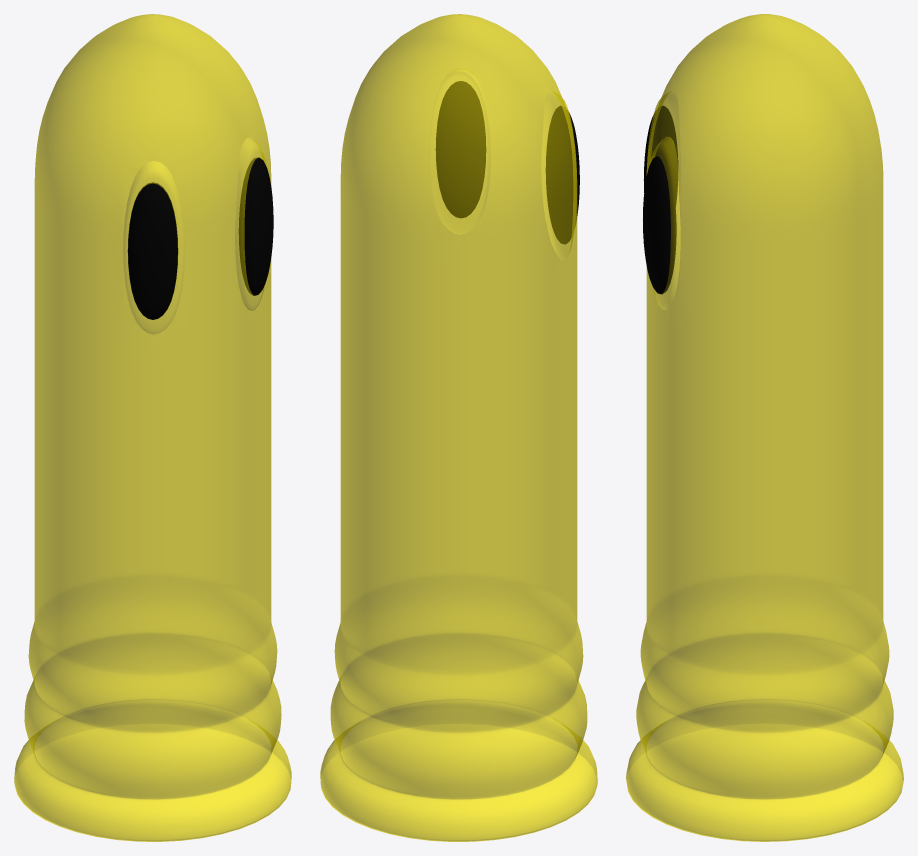
The model's file is Ennemis_JauneMarche.fbx.
3 renders of one model, left to right at view 1: azimuth 30°, elevation 25°; view 2: azimuth 150°, elevation 25°; view 3: azimuth 270°, elevation 25°, orthographic.
Parts seen in each view (by area): view 1: MonstrePrincipal, Right_Eye, Right_eye; view 2: MonstrePrincipal, Right_eye, Right_Eye; view 3: MonstrePrincipal, Right_eye, Right_Eye.
Boxes of the visible parts, x1,y1,x2,y2 form: MonstrePrincipal: [14, 14, 291, 841]; Right_Eye: [127, 182, 178, 319]; Right_eye: [238, 157, 273, 295]; MonstrePrincipal: [320, 14, 597, 841]; Right_eye: [435, 81, 486, 218]; Right_Eye: [545, 105, 579, 244]; MonstrePrincipal: [626, 14, 903, 841]; Right_eye: [643, 155, 676, 294]; Right_Eye: [643, 105, 678, 206].
Size of the model in its own units: 6.16 by 18.81 by 6.16.
